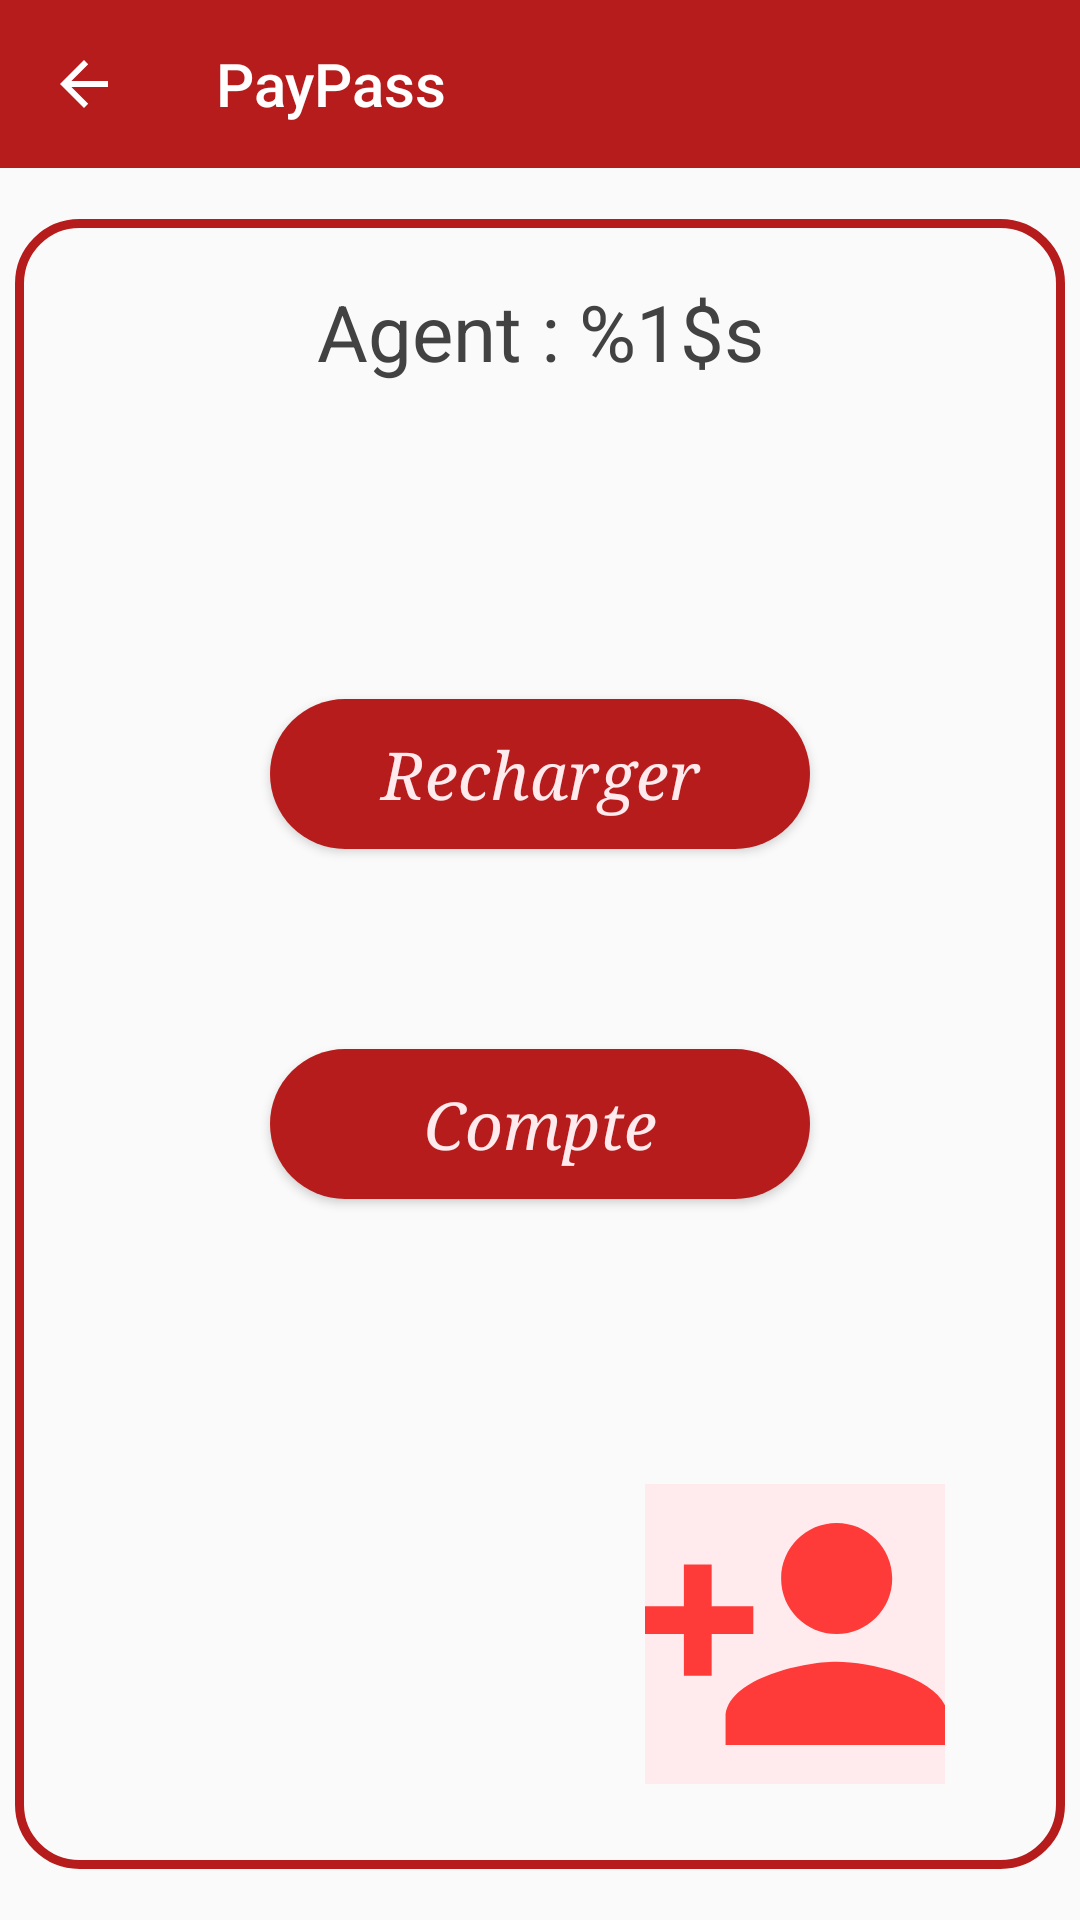

Point at icon controls on the screen. Image size 1080x1920, points as (x,y).
add client: (795,1634)
